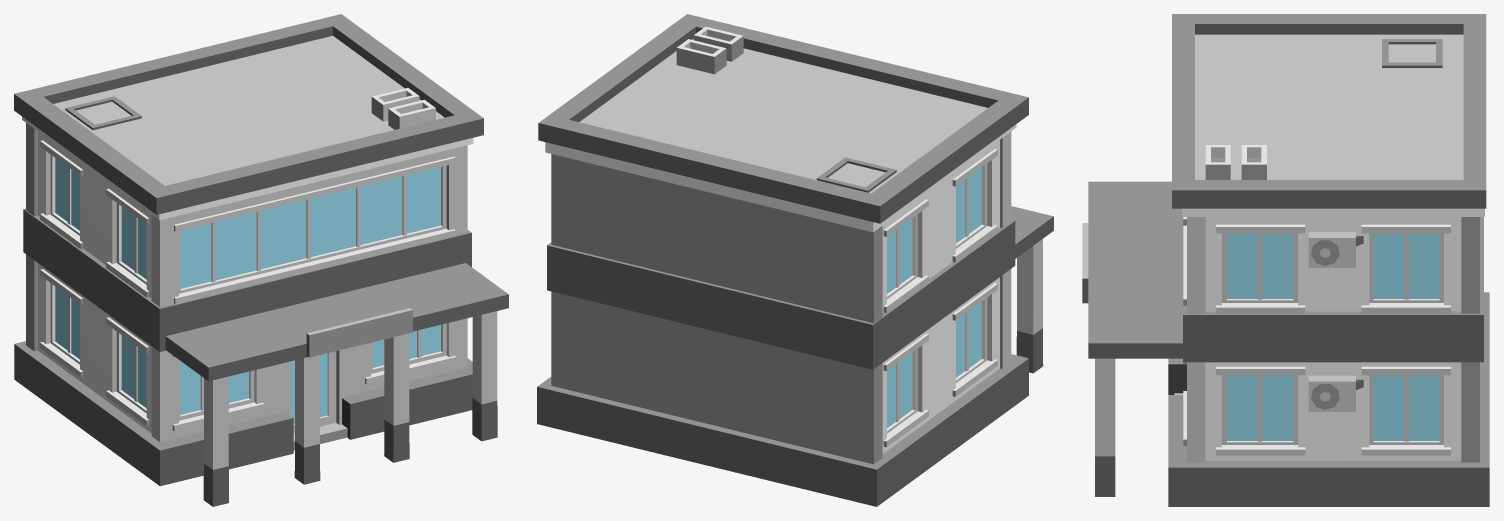
The model's file is House_3.fbx.
3 renders of one model, left to right at view 1: azimuth 30°, elevation 25°; view 2: azimuth 150°, elevation 25°; view 3: azimuth 270°, elevation 25°, orthographic. The views are drawn at different scales.
Parts seen in each view (by area): view 1: House_3; view 2: House_3; view 3: House_3.
Boxes of the visible parts, x1,y1,x2,y2 form: House_3: (14,14,508,506); House_3: (537,14,1053,506); House_3: (1082,14,1489,506).
Size of the model in its own units: 4.46 by 3.85 by 4.36.
